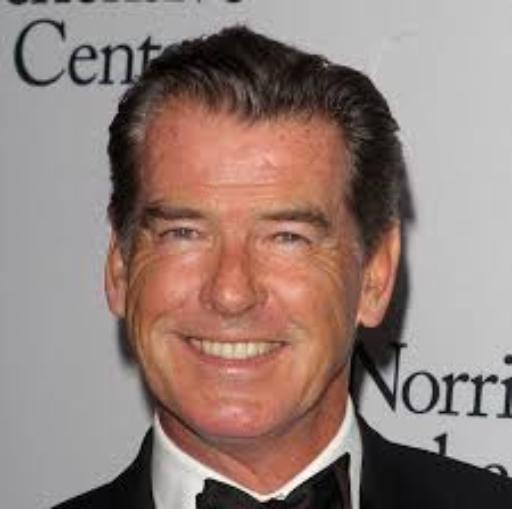left_eye: (263, 229, 316, 252)
left_lip_corner: (275, 334, 299, 355)
right_eye: (159, 226, 209, 247)
right_lip_corner: (166, 326, 193, 349)
